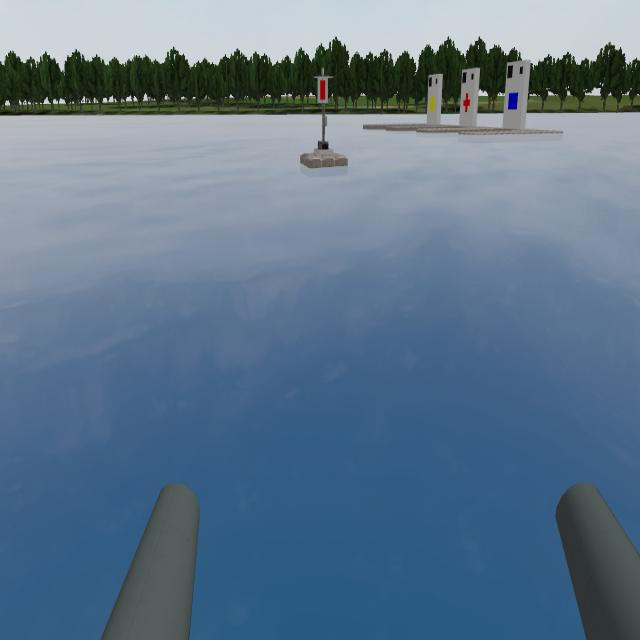red_pole: (314, 69, 336, 126)
